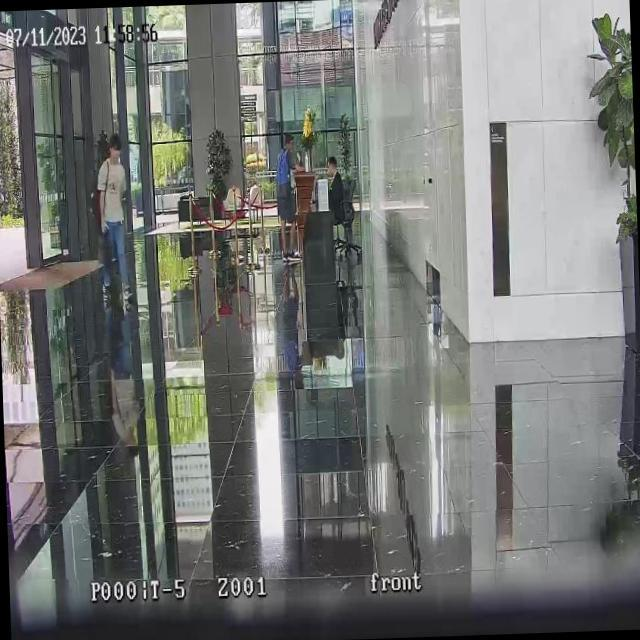person: (94, 132, 132, 306), (274, 130, 301, 262), (325, 155, 344, 224)
